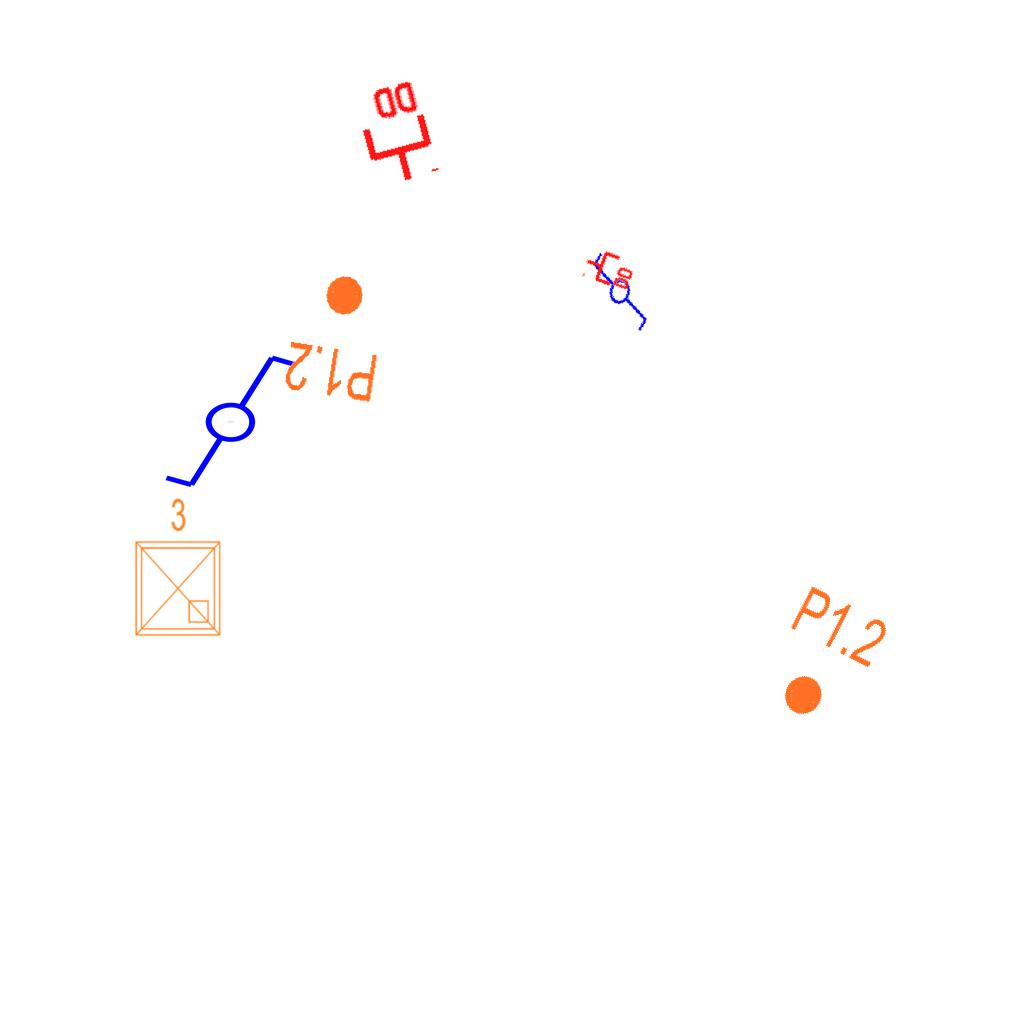Datenanschluss_zweifach: (347, 74, 442, 193), (580, 243, 640, 294)
Downlight_LED_Einbauleuchten_Flur: (753, 580, 894, 738), (280, 265, 393, 407)
Einbaudownlights_LED_Konferenzraeume: (124, 493, 228, 643)
Wechselschalter: (144, 348, 301, 492), (577, 241, 667, 335)
